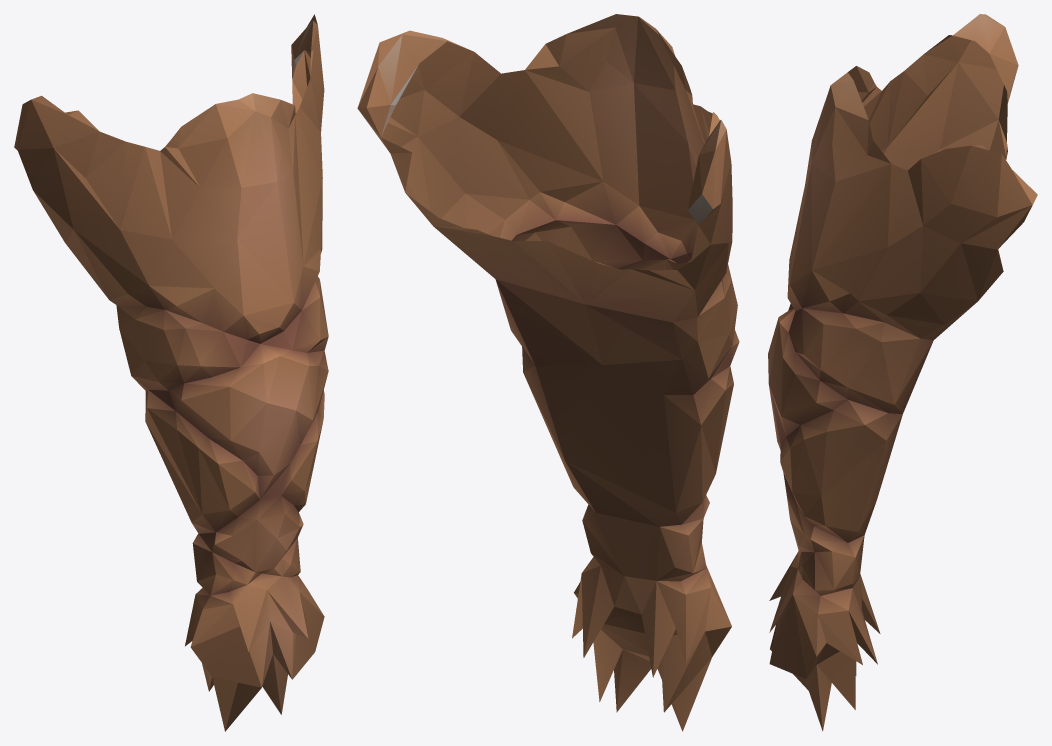
File: beard_long.fbx
The picture shows the model from 3 angles, left to right: view 1: azimuth 30°, elevation 25°; view 2: azimuth 150°, elevation 25°; view 3: azimuth 270°, elevation 25°; orthographic projection. The views are drawn at different scales.
Parts seen in each view (by area): view 1: Beard_long; view 2: Beard_long; view 3: Beard_long.
Part boxes in pixels (x1,y1,x2,y2): Beard_long: (14,14,328,731); Beard_long: (357,14,739,731); Beard_long: (768,14,1037,731).
Bounding box in the file's own units: 0.23 × 0.4525 × 0.1711.
